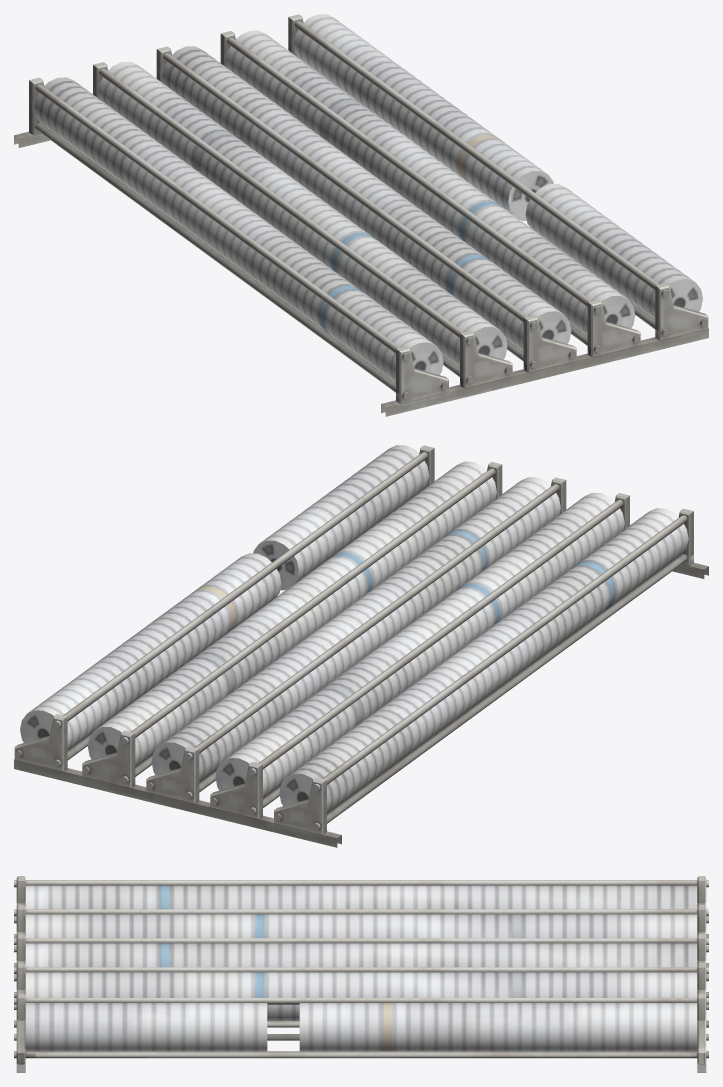
The model's file is props_spytech_reel_rack01.glb.
The picture shows the model from 3 angles, top to bottom: view 1: azimuth 30°, elevation 25°; view 2: azimuth 150°, elevation 25°; view 3: azimuth 270°, elevation 25°; orthographic projection. The views are drawn at different scales.
Parts seen in each view (by area): view 1: models/props_spytech/reel_rack01; view 2: models/props_spytech/reel_rack01; view 3: models/props_spytech/reel_rack01.
Part boxes in pixels (x1,y1,x2,y2): models/props_spytech/reel_rack01: (14,14,708,416); models/props_spytech/reel_rack01: (14,445,708,847); models/props_spytech/reel_rack01: (14,876,708,1072).
Bounding box in the file's own units: 128 × 23.29 × 257.
1 material, 1 textured.
